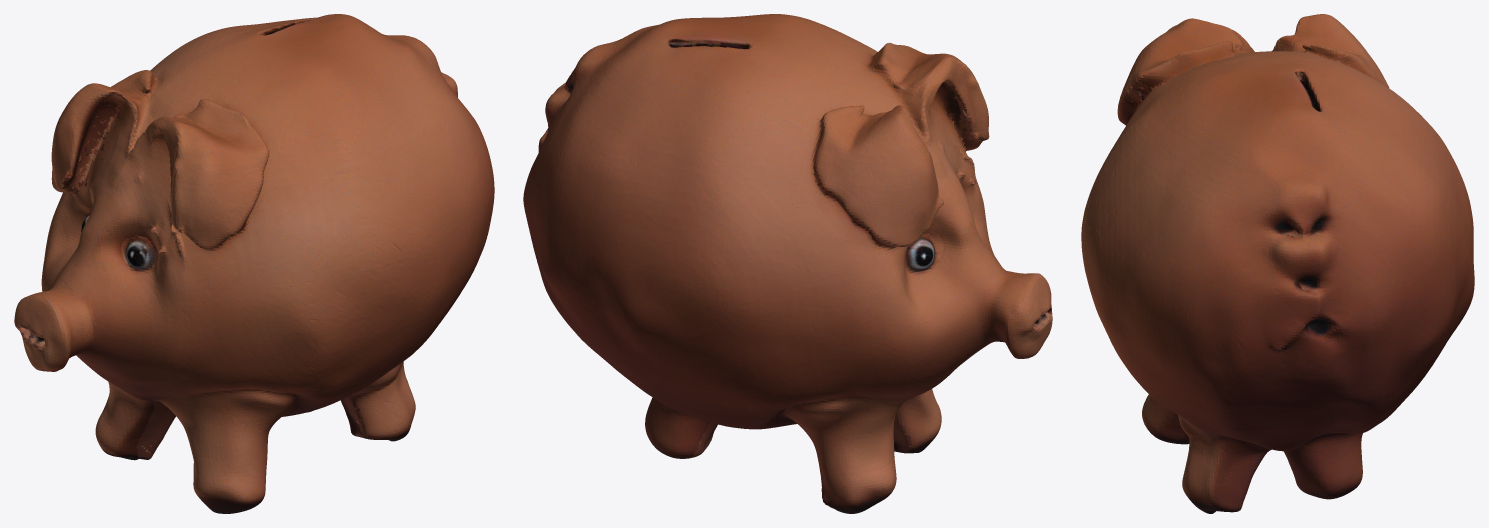
The model's file is 3D_07_存钱罐_textured.glb.
3 views of the same model, side by side, from view 1: azimuth 30°, elevation 25°; view 2: azimuth 150°, elevation 25°; view 3: azimuth 270°, elevation 25° (orthographic). The views are drawn at different scales.
Visible parts, largest first — view 1: 3D_07_存钱罐_白膜.obj; view 2: 3D_07_存钱罐_白膜.obj; view 3: 3D_07_存钱罐_白膜.obj.
Part boxes in pixels (<box>): 3D_07_存钱罐_白膜.obj: <box>14,14,494,513</box>; 3D_07_存钱罐_白膜.obj: <box>523,14,1052,513</box>; 3D_07_存钱罐_白膜.obj: <box>1081,14,1474,513</box>.
Bounding box in the file's own units: 1.99 × 1.69 × 1.46.
1 material, 1 textured.
